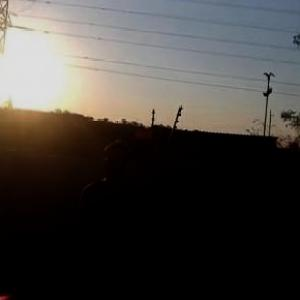follow: (70, 138, 153, 299)
